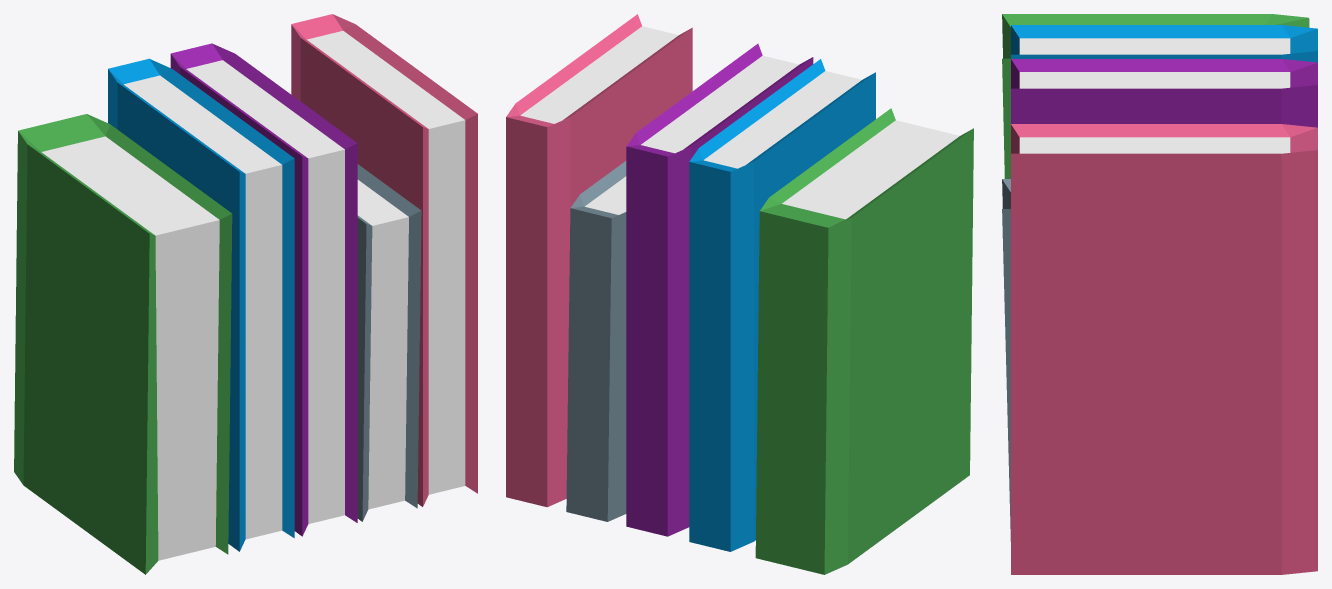
The model's file is book_lineup.glb.
3 views of the same model, side by side, from view 1: azimuth 30°, elevation 25°; view 2: azimuth 150°, elevation 25°; view 3: azimuth 270°, elevation 25° (orthographic). The views are drawn at different scales.
Parts seen in each view (by area): view 1: group42931298, group2057030659, group1658818304, group1328467767, group1614239582; view 2: group42931298, group2057030659, group1658818304, group1328467767, group1614239582; view 3: group2057030659, group1328467767, group1658818304, group42931298, group1614239582.
Boxes of the visible parts, x1,y1,x2,y2 form: group42931298: (14, 114, 232, 574); group2057030659: (291, 14, 477, 506); group1658818304: (108, 58, 294, 551); group1328467767: (170, 43, 357, 536); group1614239582: (357, 164, 421, 521); group42931298: (755, 108, 973, 574); group2057030659: (506, 14, 692, 507); group1658818304: (689, 59, 875, 551); group1328467767: (626, 43, 813, 536); group1614239582: (566, 161, 626, 521); group2057030659: (1011, 124, 1317, 574); group1328467767: (1011, 59, 1317, 127); group1658818304: (1011, 25, 1317, 62); group42931298: (1002, 14, 1309, 178); group1614239582: (1002, 179, 1010, 541).
Bounding box in the file's own units: 0.4827 × 0.5277 × 0.3587.
